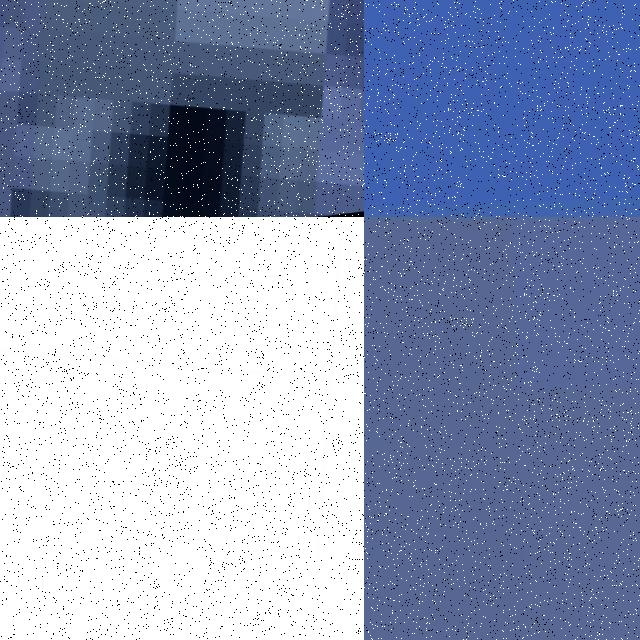0: (0, 0, 364, 217)
drone: (0, 217, 364, 640)
